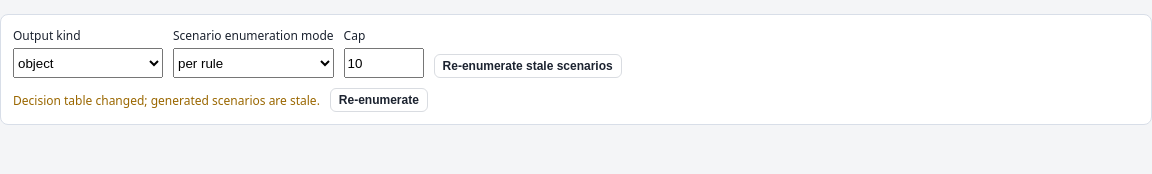
Scenario: DecisionScenarioWorkbench › re-enumerates a stale persisted set and clears stale state after the authoritative save
Expected: the message "Decision table changed; generated scenarios are stale. Re-enumerate" is shown, [13,88,428,112]
Click the button "Re-enumerate" at (379, 100), box [330,88,428,112]
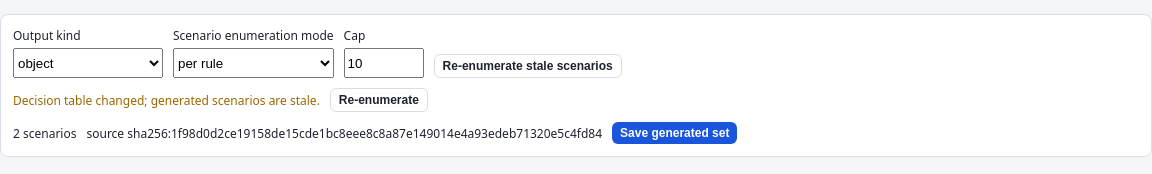
Click the button "Save generated set" at (675, 133), box [612,122,738,144]
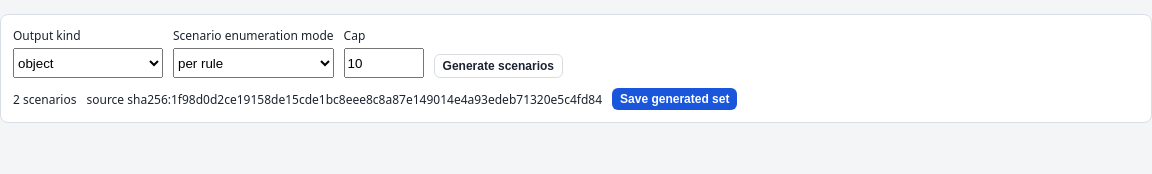
Now the message with test id "decision-scenario-stale" is gone
